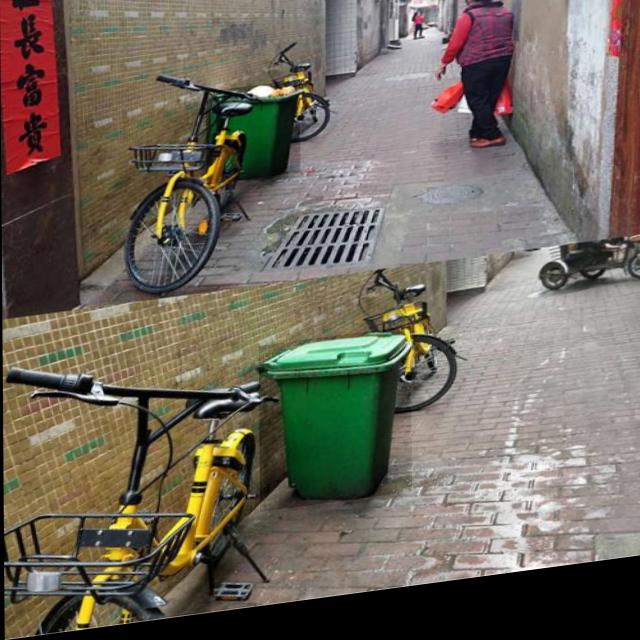garbage_bin: (258, 337, 411, 519)
overflow: (206, 88, 300, 190)
